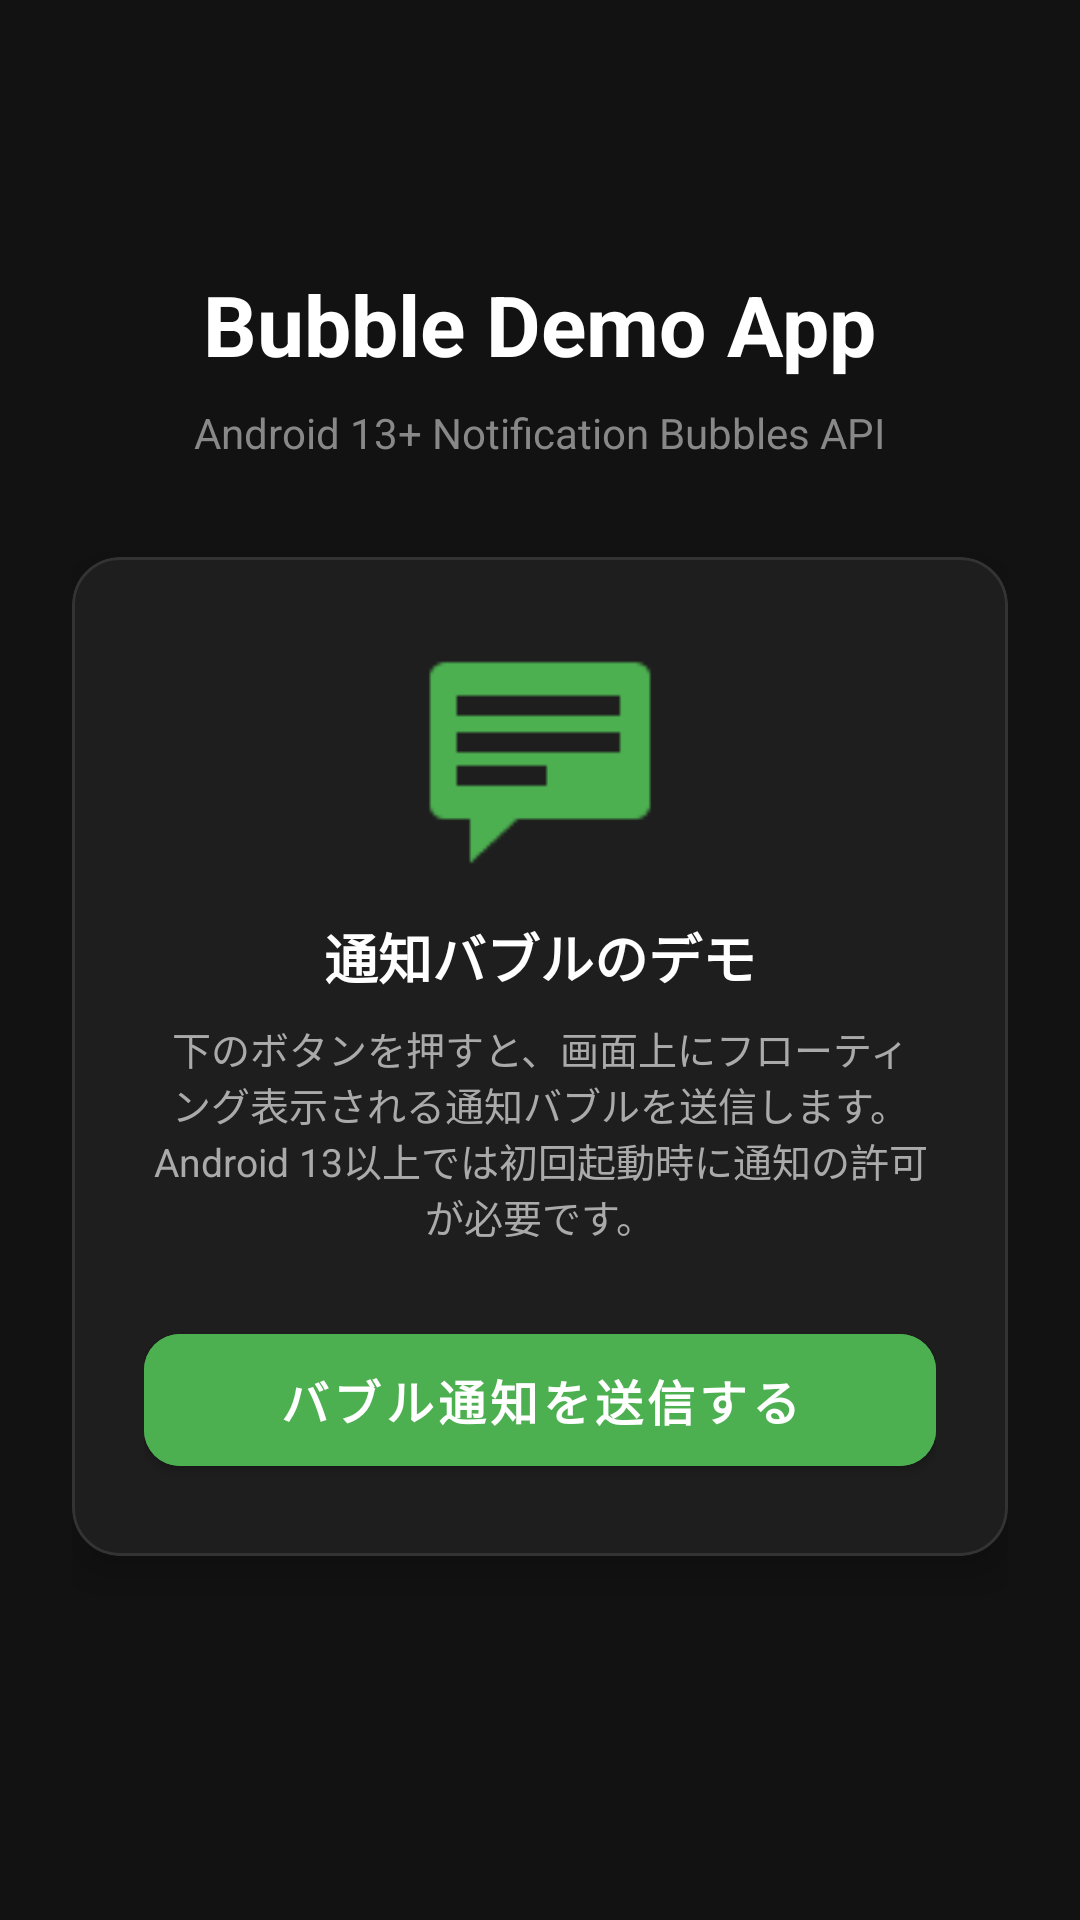

Named icons in this screenshot (1080 x 1920) and their centers, point (x, y):
chat: point (540, 762)
